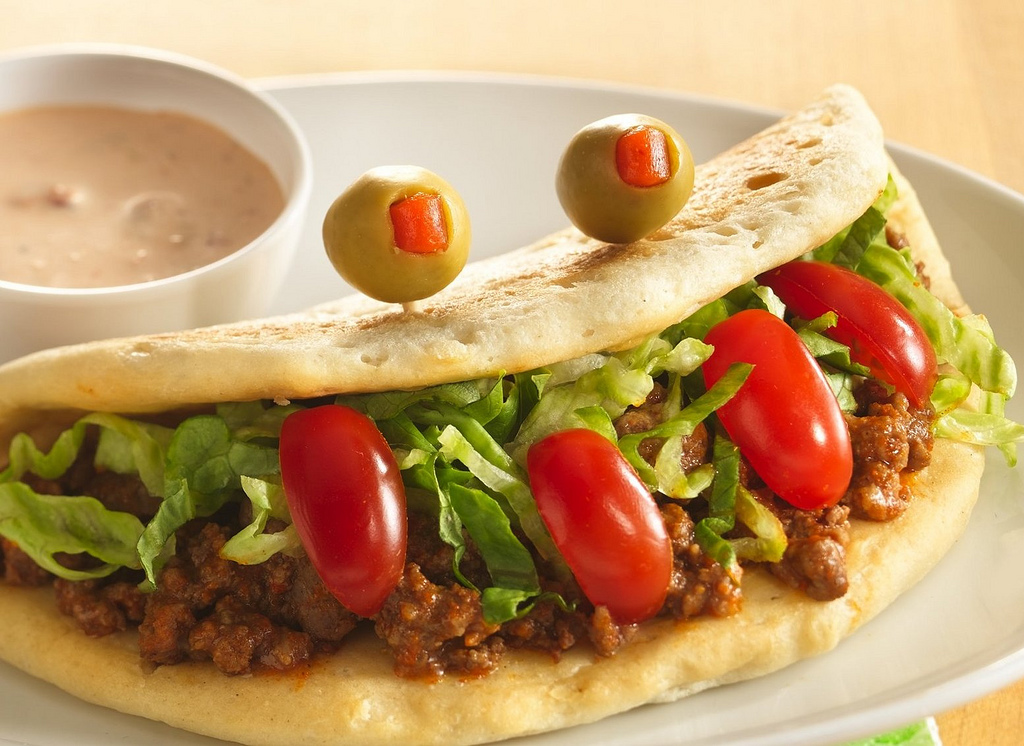chopped lettuce: (37, 439, 278, 537)
